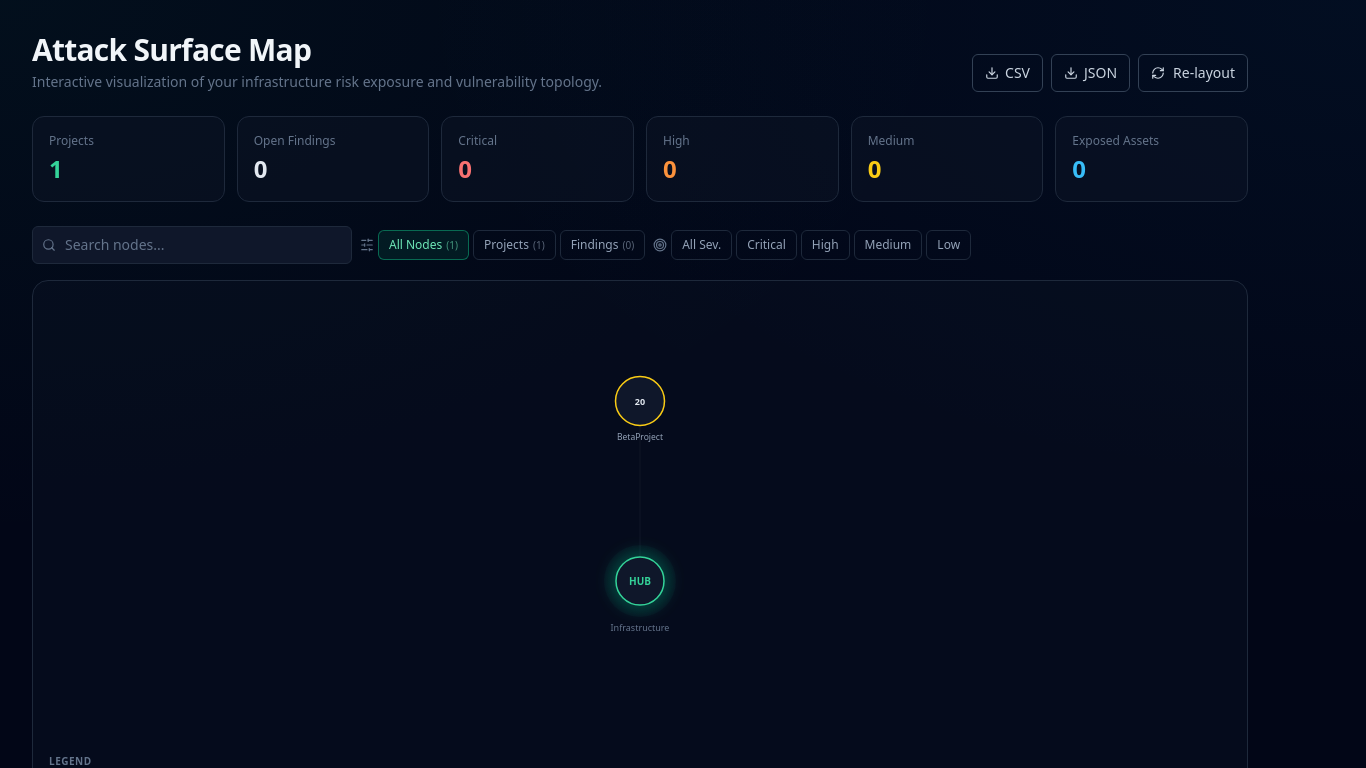
Test: AttackSurfaceMap — node filter buttons › clicking "Findings" filter shows visible badge (no vuln nodes)
The width and height of the screenshot is (1366, 768).
Click the button "Findings(0)": (602, 245) x1=560 y1=230 x2=645 y2=260
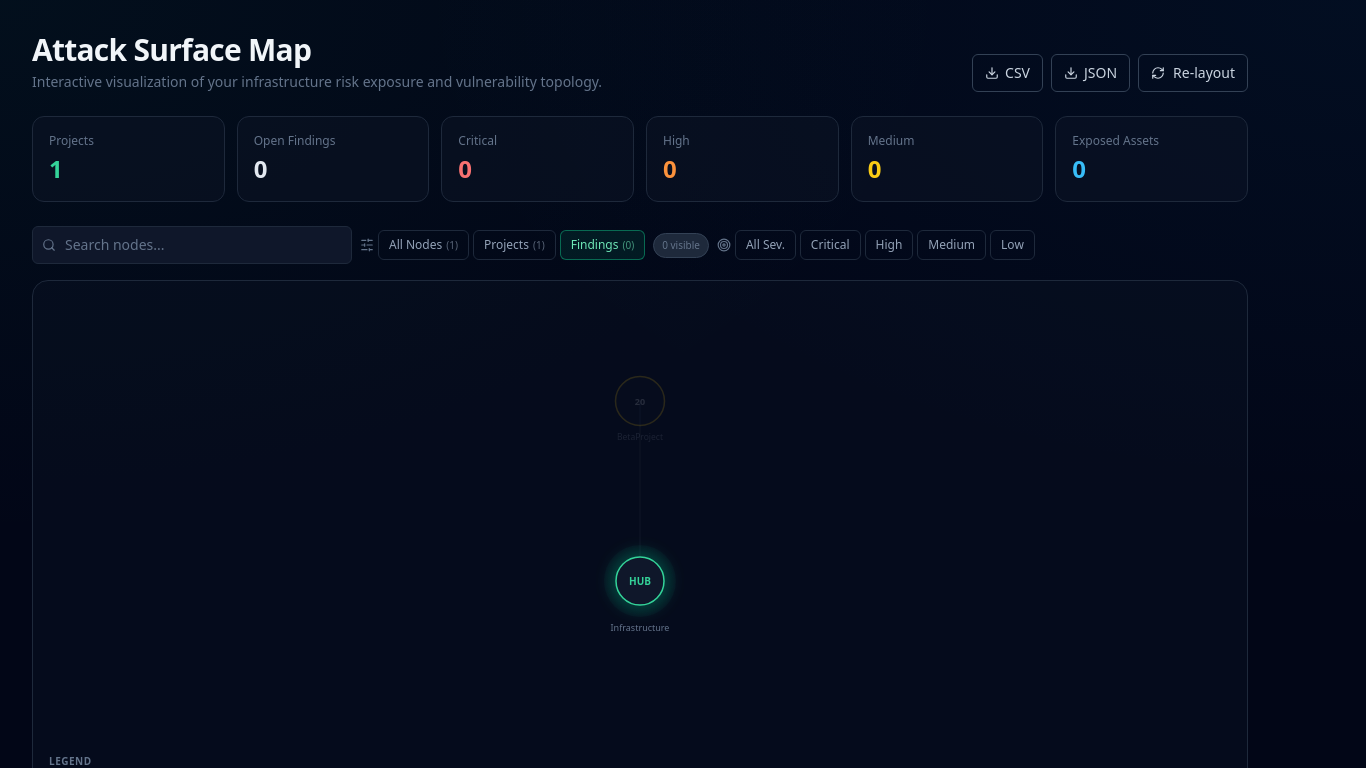
expect the text "0 visible" is shown: met, box x1=653 y1=232 x2=709 y2=258
